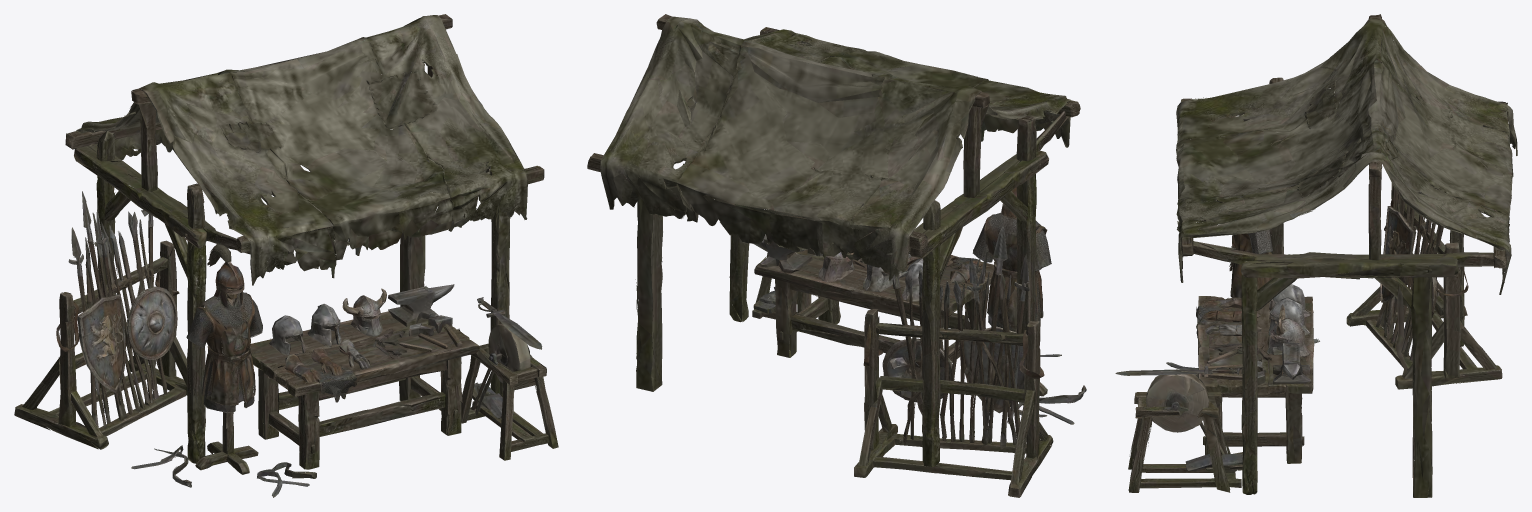
The model's file is armory.glb.
3 views of the same model, side by side, from view 1: azimuth 30°, elevation 25°; view 2: azimuth 150°, elevation 25°; view 3: azimuth 270°, elevation 25° (orthographic). The views are drawn at different scales.
Visible parts, largest first — view 1: Mesh_0; view 2: Mesh_0; view 3: Mesh_0.
Boxes of the visible parts, <box> form: Mesh_0: <box>14,14,558,497</box>; Mesh_0: <box>587,14,1086,497</box>; Mesh_0: <box>1115,14,1517,497</box>.
Bounding box in the file's own units: 3.9 × 3.2 × 3.46.
1 material, 1 textured.
